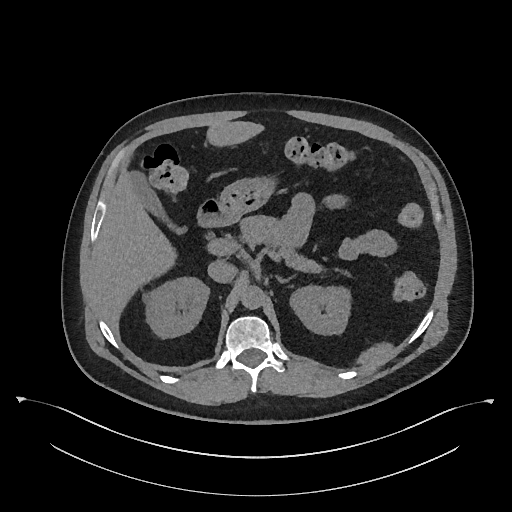Lesion: (137, 288, 156, 307)
